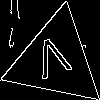V: (31, 34, 76, 89)
